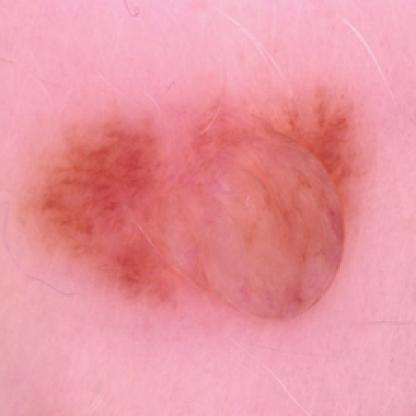benign: (50, 121, 368, 327)
